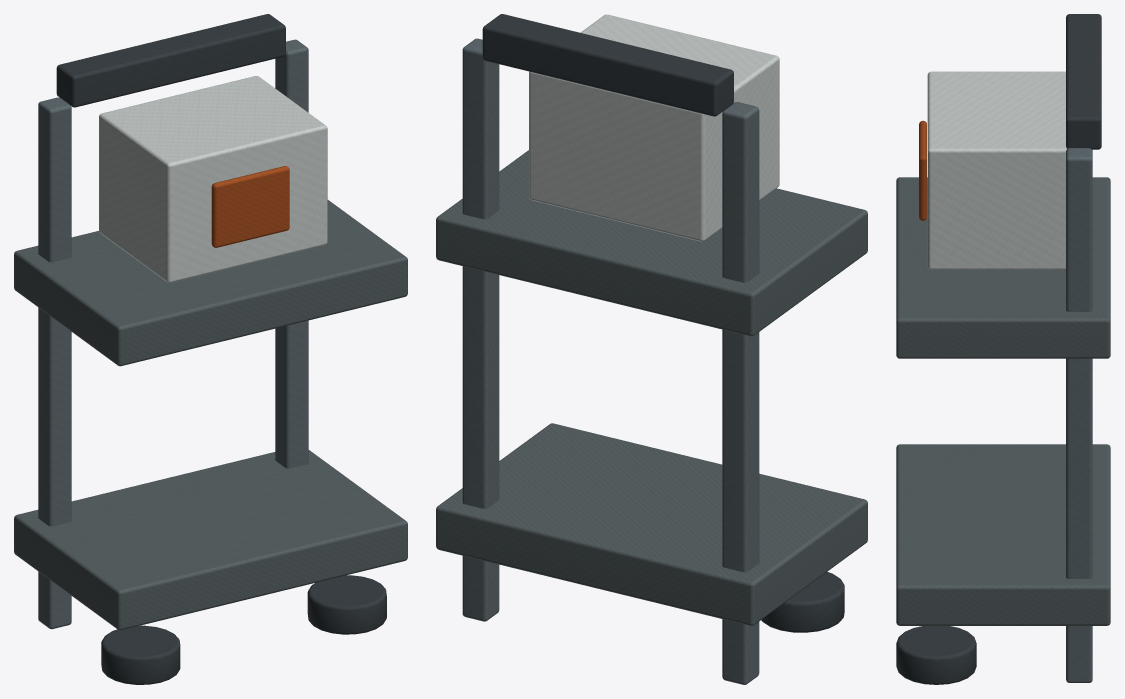
File: MedicalSupplyTrolley.fbx
3 renders of one model, left to right at view 1: azimuth 30°, elevation 25°; view 2: azimuth 150°, elevation 25°; view 3: azimuth 270°, elevation 25°, orthographic. The views are drawn at different scales.
Parts seen in each view (by area): view 1: MedicalSupplyTrolley_Mesh; view 2: MedicalSupplyTrolley_Mesh; view 3: MedicalSupplyTrolley_Mesh.
Boxes of the visible parts, left/top/right/bottom form: MedicalSupplyTrolley_Mesh: left=14, top=14, right=407, bottom=684; MedicalSupplyTrolley_Mesh: left=436, top=14, right=867, bottom=684; MedicalSupplyTrolley_Mesh: left=896, top=14, right=1110, bottom=684.
Size of the model in its own units: 76 by 137 by 48.
